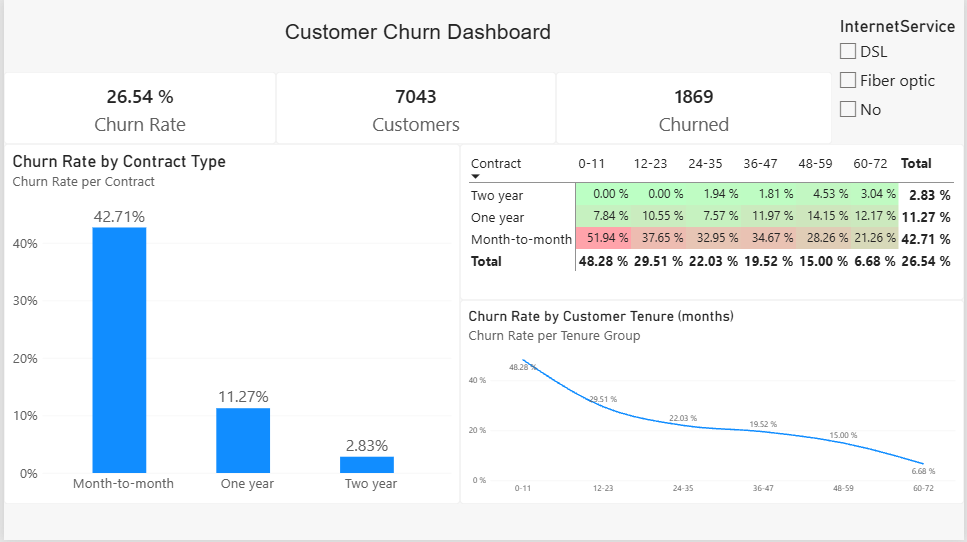

The page's visual inventory and layout, read from the dashboard file:
{"tool":"powerbi","page":{"name":"Página 1","canvas":[1920,1080],"ordinal":0},"visuals":[{"type":"clusteredColumnChart","title":"Churn Rate by Contract Type","fields":{"Category":["customers.Contract"],"Y":["customers.Churn Rate"]},"box":[0,288,912,720],"z":0},{"type":"card","fields":{"Values":["customers.Customers"]},"box":[544,144,560,144],"z":1000},{"type":"card","fields":{"Values":["customers.Churned"]},"box":[1104,144,552,144],"z":2000},{"type":"slicer","fields":{"Values":["customers.InternetService"]},"box":[1664,32,256,256],"z":3000},{"type":"lineChart","title":"Churn Rate by Customer Tenure (months)","fields":{"Category":["customers.Tenure Group"],"Y":["customers.Churn Rate"]},"box":[912,600,1008,408],"z":4000},{"type":"pivotTable","fields":{"Columns":["customers.Tenure Group"],"Rows":["customers.Contract"],"Values":["customers.Churn Rate"]},"box":[912,288,1008,312],"z":5000},{"type":"textbox","box":[0,0,1656,144],"z":5002},{"type":"card","fields":{"Values":["customers.Churn Rate"]},"box":[0,144,544,144],"z":5003}]}

Visuals, with their boxes in screenshot pixels (x1, y1, x2, y2), scaled from the page's 1920x1080 canvas onto the 967x542 screenshot:
"Churn Rate by Contract Type" clusteredColumnChart: BBox(0, 145, 459, 506)
card - customers.Customers: BBox(274, 72, 556, 145)
card - customers.Churned: BBox(556, 72, 834, 145)
slicer - customers.InternetService: BBox(838, 16, 966, 145)
"Churn Rate by Customer Tenure (months)" lineChart: BBox(459, 301, 966, 506)
pivotTable - customers.Tenure Group x customers.Contract: BBox(459, 145, 966, 301)
textbox: BBox(0, 0, 834, 72)
card - customers.Churn Rate: BBox(0, 72, 274, 145)
